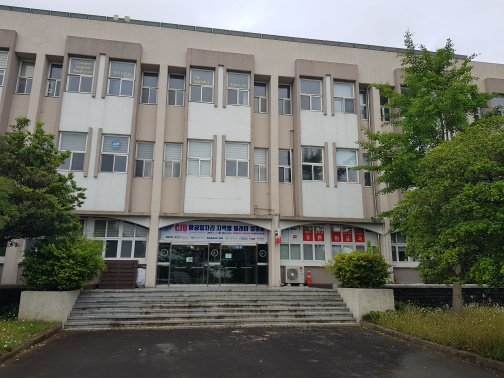Main Building of University: (3, 3, 503, 320)
